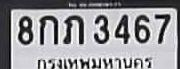3: (93, 14, 110, 45)
4: (114, 13, 130, 44)
6: (134, 14, 151, 43)
7: (154, 13, 170, 44)
8: (17, 15, 34, 46)
A01: (39, 14, 59, 45)
A32: (62, 14, 85, 46)
BKK: (34, 53, 153, 69)
